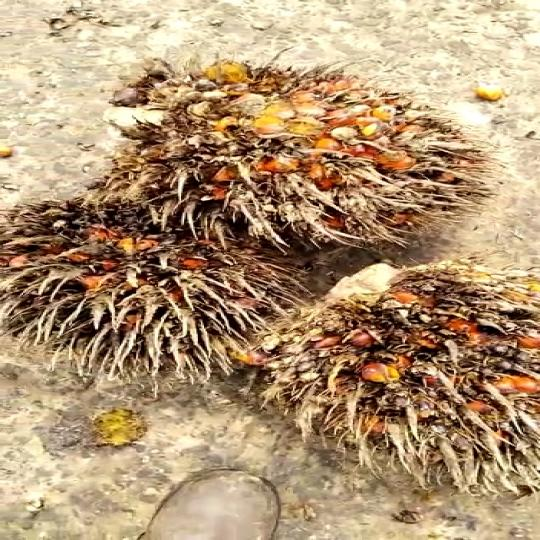terlalu masak: (260, 250, 540, 471), (91, 78, 490, 230), (0, 195, 321, 358)
